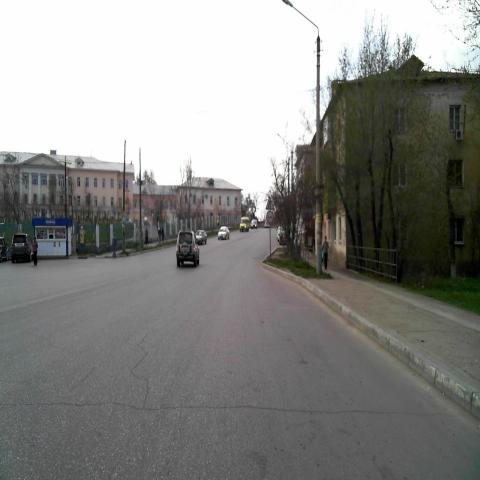1_20_3: (266, 196, 276, 210)
